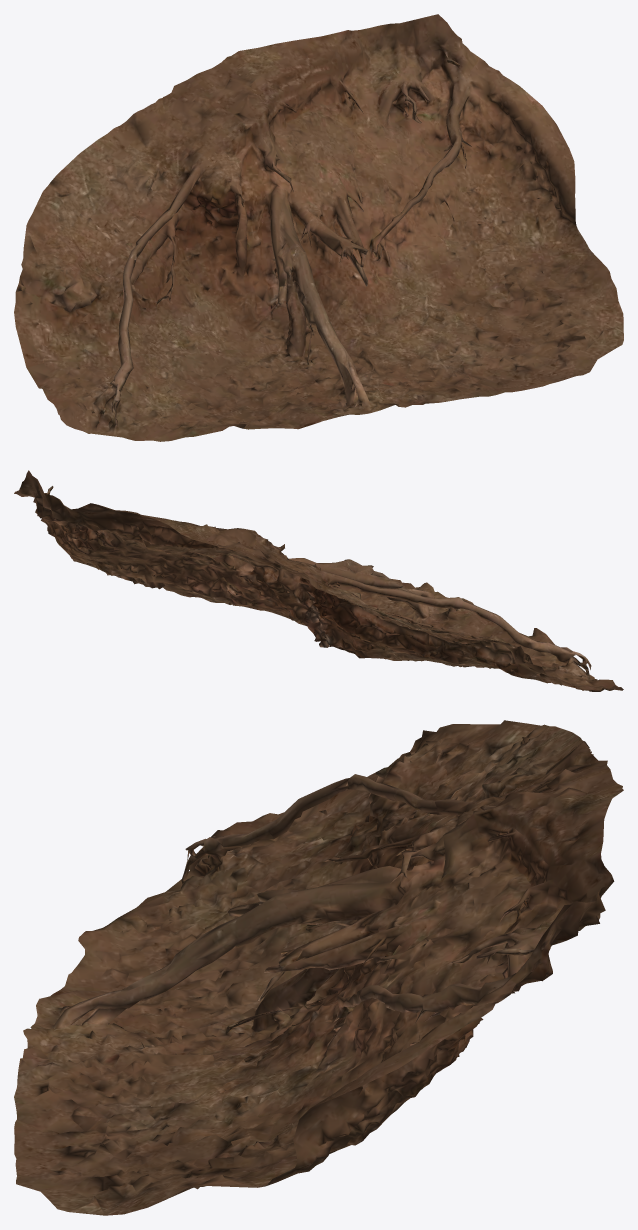
File: root_cluster_01.glb
3 views of the same model, one above another, from view 1: azimuth 30°, elevation 25°; view 2: azimuth 150°, elevation 25°; view 3: azimuth 270°, elevation 25° (orthographic). The views are drawn at different scales.
Parts seen in each view (by area): view 1: root_cluster_01; view 2: root_cluster_01; view 3: root_cluster_01.
Part boxes in pixels (box(x1,y1,x2,y2)): root_cluster_01: box(14, 14, 623, 441); root_cluster_01: box(14, 470, 623, 691); root_cluster_01: box(14, 720, 623, 1215).
Bounding box in the file's own units: 4.12 × 1.51 × 2.68.
1 material, 1 textured.
